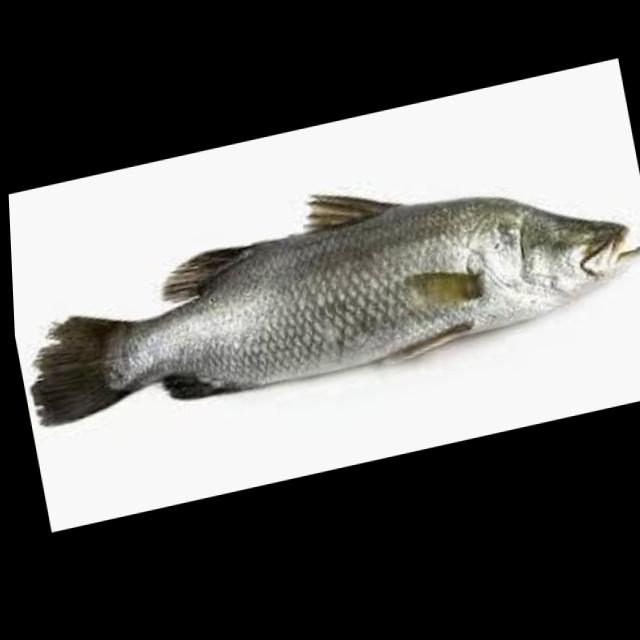Seabass: (8, 119, 640, 438)
